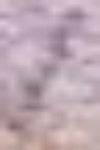SLASH: (0, 0, 99, 149)
